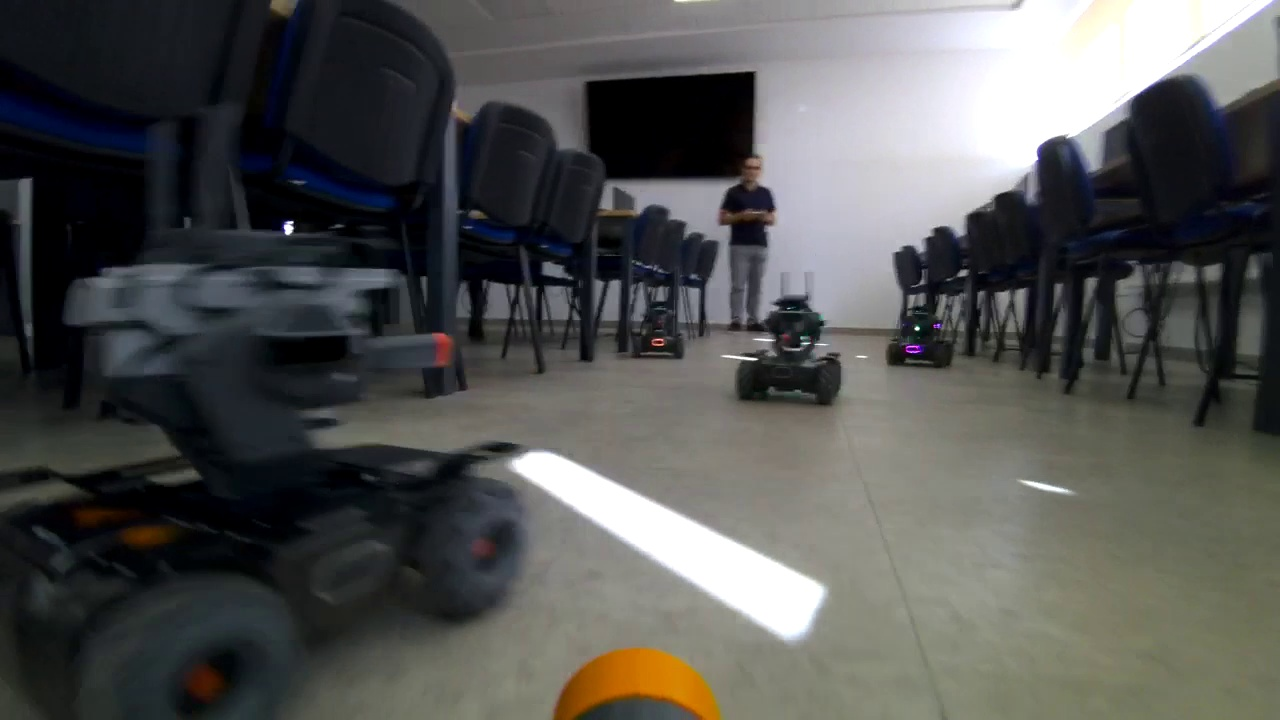robot: (15, 232, 540, 706), (738, 304, 839, 402), (877, 294, 966, 366), (629, 297, 686, 360)
